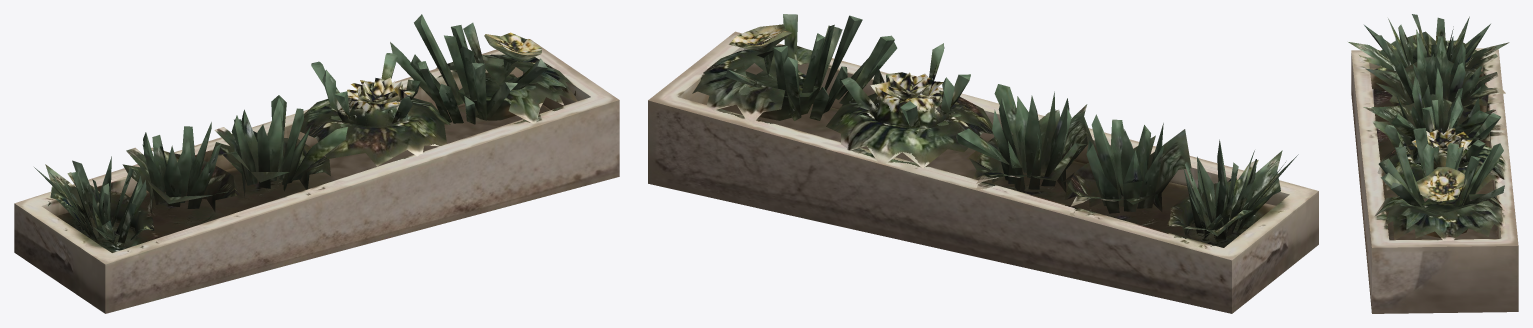
The model's file is act1_kit_v1_walled_flower_bed.glb.
The picture shows the model from 3 angles, left to right: view 1: azimuth 30°, elevation 25°; view 2: azimuth 150°, elevation 25°; view 3: azimuth 270°, elevation 25°; orthographic projection. The views are drawn at different scales.
Visible parts, largest first — view 1: A23_5_walled_flower_bed; view 2: A23_5_walled_flower_bed; view 3: A23_5_walled_flower_bed.
Boxes of the visible parts, bbox=[...] form: A23_5_walled_flower_bed: bbox=[14, 14, 619, 313]; A23_5_walled_flower_bed: bbox=[648, 14, 1318, 313]; A23_5_walled_flower_bed: bbox=[1348, 14, 1518, 313].
Size of the model in its own units: 1 by 0.2485 by 0.3238.
1 material, 1 textured.
